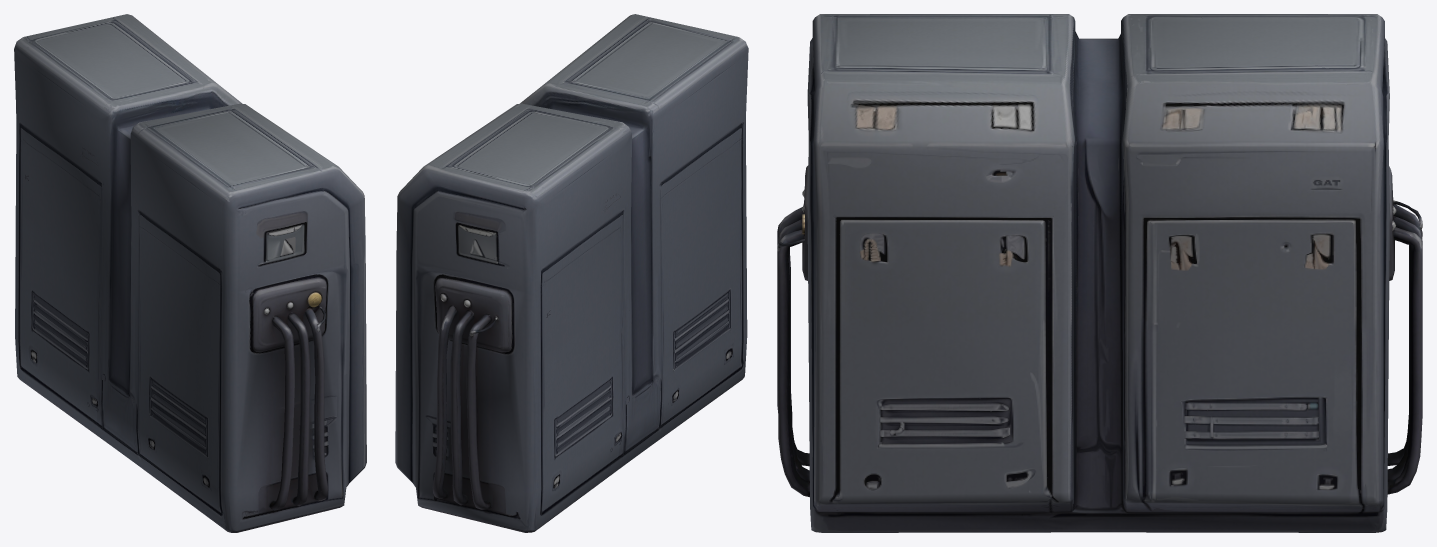
Rendered from tripo_convert_f0f657b4-b861-4df2-9c5a-a6a958d7c032.fbx.
The picture shows the model from 3 angles, left to right: view 1: azimuth 30°, elevation 25°; view 2: azimuth 150°, elevation 25°; view 3: azimuth 270°, elevation 25°; orthographic projection. The views are drawn at different scales.
Visible parts, largest first — view 1: tripo_node_f0f657b4; view 2: tripo_node_f0f657b4; view 3: tripo_node_f0f657b4.
Part boxes in pixels (box(x1,y1,x2,y2)): tripo_node_f0f657b4: box(14, 14, 366, 532); tripo_node_f0f657b4: box(395, 14, 748, 532); tripo_node_f0f657b4: box(777, 14, 1422, 532).
Size of the model in its own units: 0.3379 by 0.7676 by 0.998.
